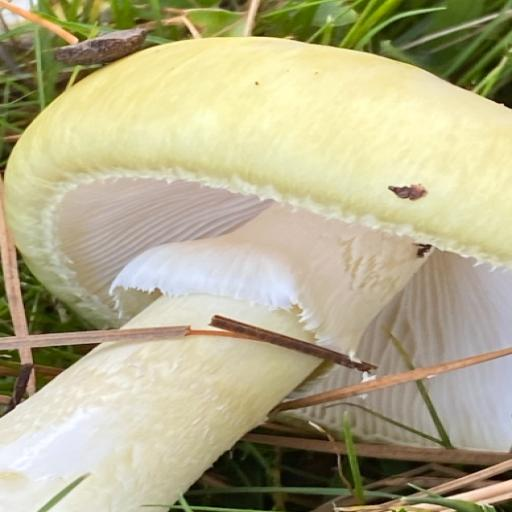Death Cap: (0, 36, 511, 512)
